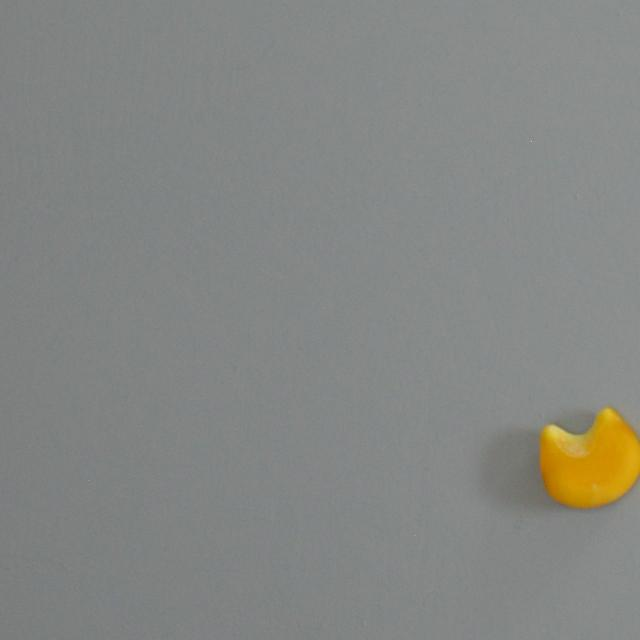dañado: (532, 400, 640, 508)
